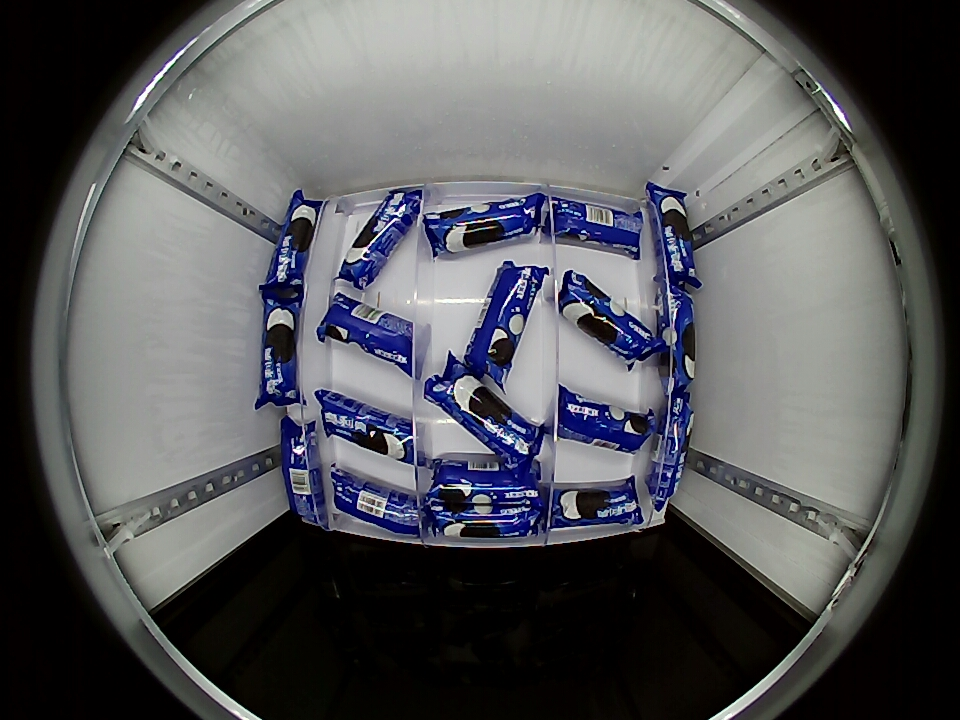aoliao: (423, 351, 547, 461), (464, 260, 551, 394), (555, 269, 667, 372), (316, 293, 430, 380), (333, 188, 427, 291), (423, 192, 547, 261), (313, 388, 422, 465), (328, 457, 422, 541), (558, 382, 657, 455), (260, 189, 325, 292), (645, 180, 706, 287), (547, 195, 643, 261), (255, 291, 306, 409), (424, 497, 544, 544), (547, 476, 645, 532), (280, 416, 328, 527), (429, 459, 542, 505), (654, 395, 695, 512), (656, 289, 697, 394)
